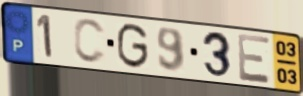1: (34, 13, 54, 61)
3: (201, 29, 235, 81)
9: (155, 26, 186, 75)
C: (72, 17, 108, 66)
E: (236, 32, 273, 86)
G: (116, 21, 151, 71)
